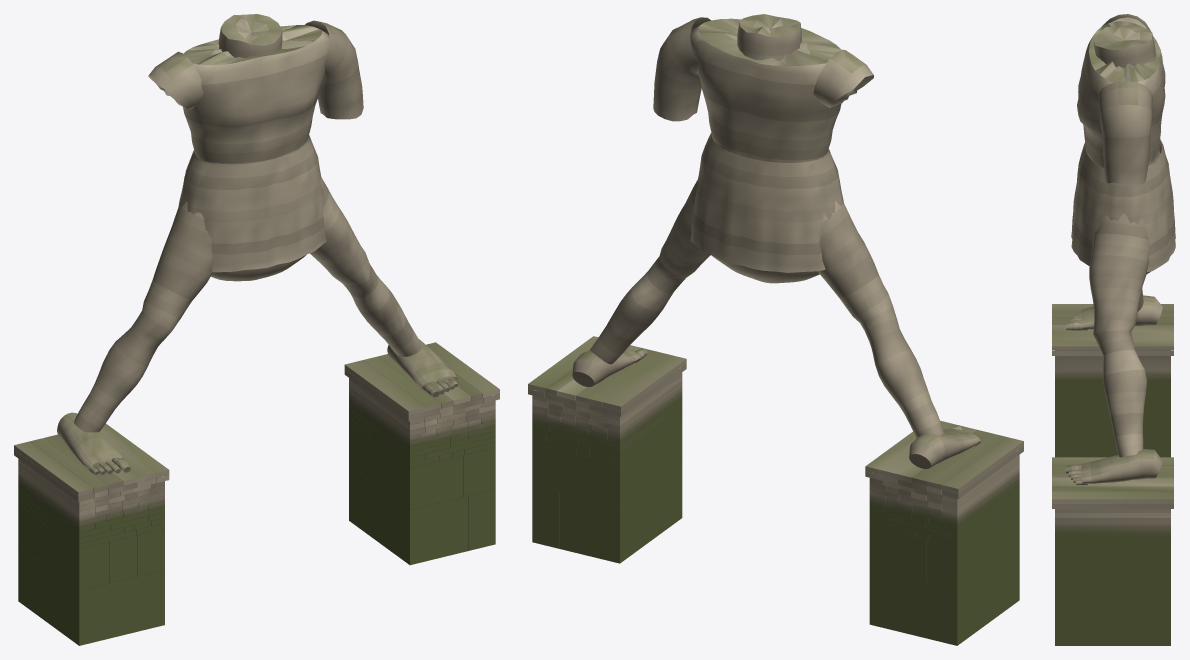
Rendered from harbour_colossus_mid.glb.
3 views of the same model, side by side, from view 1: azimuth 30°, elevation 25°; view 2: azimuth 150°, elevation 25°; view 3: azimuth 270°, elevation 25° (orthographic). The views are drawn at different scales.
Parts seen in each view (by area): view 1: harbour_colossus_mid; view 2: harbour_colossus_mid; view 3: harbour_colossus_mid.
Part boxes in pixels (x1=…): harbour_colossus_mid: x1=14, y1=14, x2=499, y2=645; harbour_colossus_mid: x1=528, y1=14, x2=1023, y2=645; harbour_colossus_mid: x1=1052, y1=14, x2=1175, y2=645.
Bounding box in the file's own units: 128 × 157 × 34.15.
